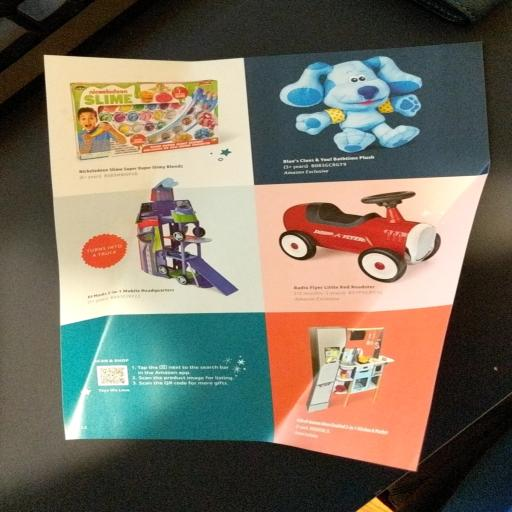paper: (26, 45, 512, 511)
